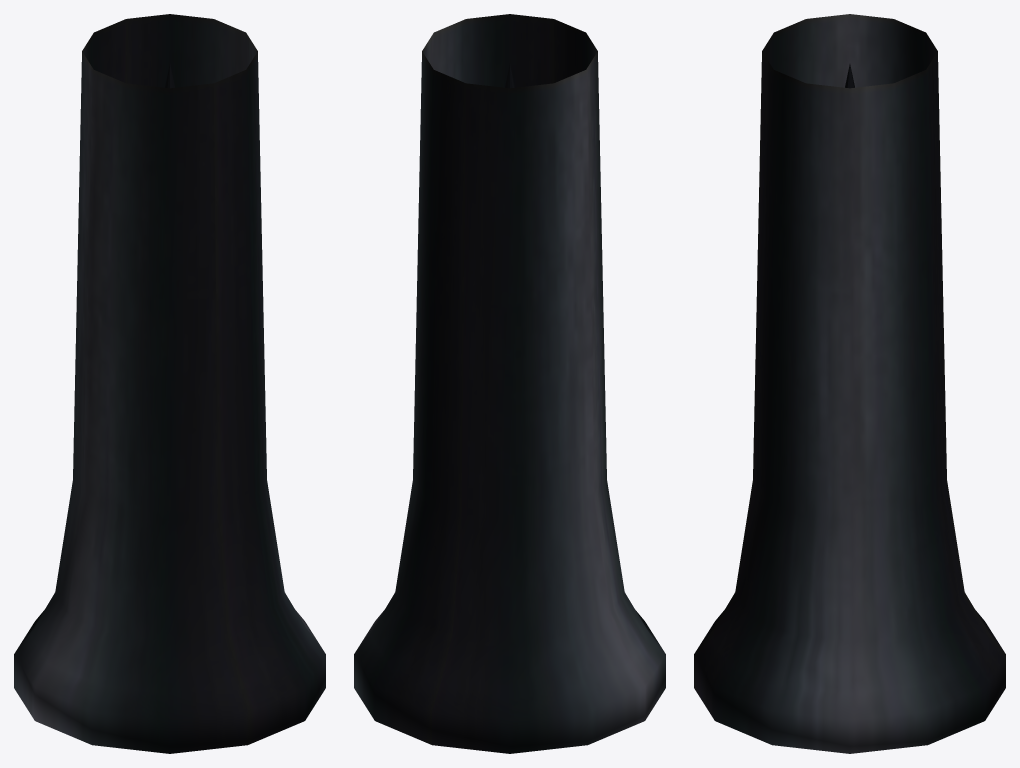
Rendered from OboeHorn.fbx.
3 views of the same model, side by side, from view 1: azimuth 30°, elevation 25°; view 2: azimuth 150°, elevation 25°; view 3: azimuth 270°, elevation 25° (orthographic).
Visible parts, largest first — view 1: ClarinetHorn; view 2: ClarinetHorn; view 3: ClarinetHorn.
Part boxes in pixels (<box>): ClarinetHorn: <box>14,14,325,753</box>; ClarinetHorn: <box>354,14,665,753</box>; ClarinetHorn: <box>694,14,1005,753</box>.
Size of the model in its own units: 1.88 by 4.24 by 1.88.
Materials: 1 (1 with a texture image).
